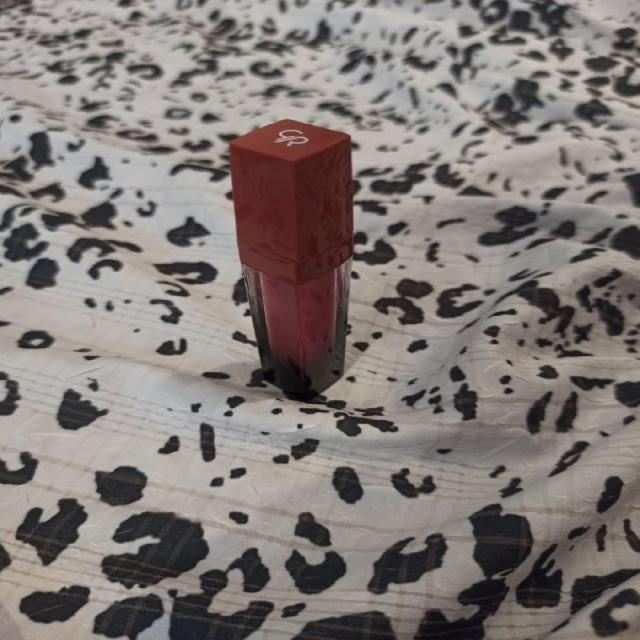lipstick: (227, 118, 353, 398)
